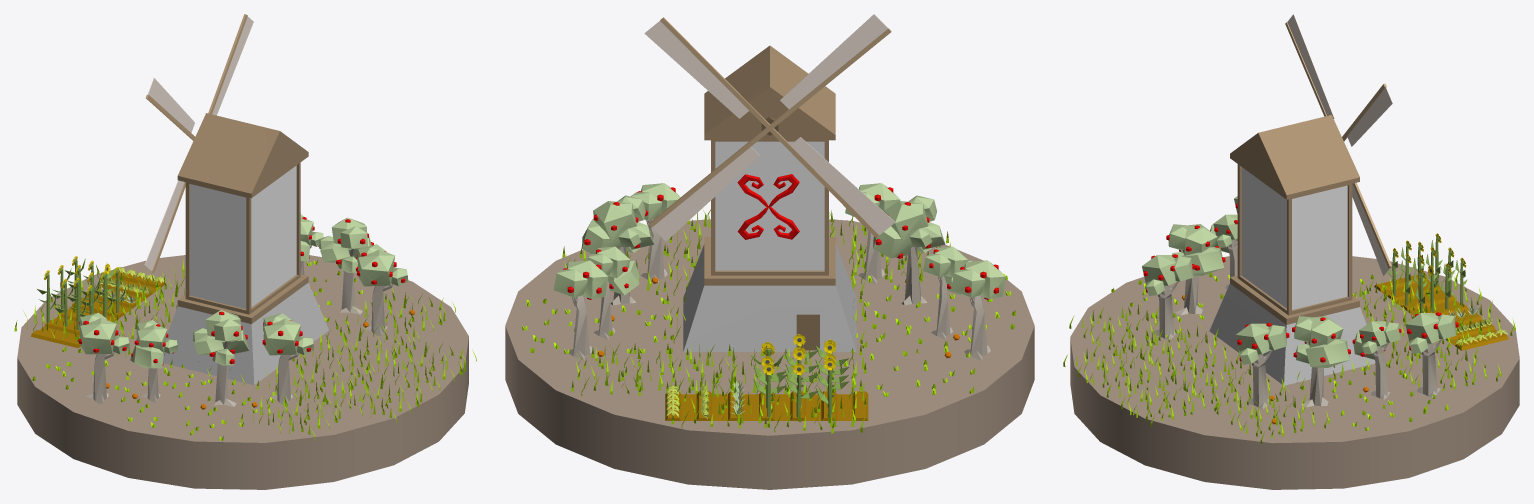
3 renders of one model, left to right at view 1: azimuth 30°, elevation 25°; view 2: azimuth 150°, elevation 25°; view 3: azimuth 270°, elevation 25°, orthographic. The views are drawn at different scales.
Visible parts, largest first — view 1: Cube__1_, Building_Windmill_Tower_01, Cube, Building_Windmill_Blades_Sails_01, Vegetation_Tree_Apple_03__2_, Prop_Farm_Plot_01, Vegetation_Tree_Apple_03__4_, Vegetation_Tree_Apple_01__8_, Vegetation_Tree_Apple_01__5_, Vegetation_Tree_Apple_01__4_, Vegetation_Tree_Apple_02__2_, Vegetation_Grass_2D_Patch_Square_01__4_ (+8 smaller); view 2: Cube__1_, Building_Windmill_Tower_01, Cube, Building_Windmill_Blades_Sails_01, Prop_Farm_Plot_01, Vegetation_Tree_Apple_03__2_, Vegetation_Tree_Apple_03__4_, Vegetation_Tree_Apple_01__4_, Vegetation_Tree_Apple_01__9_, Vegetation_Tree_Apple_02__4_, Vegetation_Tree_Apple_02__2_, Vegetation_Tree_Apple_01__8_ (+8 smaller); view 3: Cube__1_, Building_Windmill_Tower_01, Cube, Building_Windmill_Blades_Sails_01, Vegetation_Tree_Apple_03__4_, Prop_Farm_Plot_01, Vegetation_Tree_Apple_03__2_, Vegetation_Tree_Apple_01__8_, Vegetation_Tree_Apple_01__5_, Vegetation_Tree_Apple_01__9_, Vegetation_Tree_Apple_02__4_, Vegetation_Tree_Apple_02__2_ (+10 smaller).
Part boxes in pixels (x1,y1,x2,y2): Cube__1_: (17,255,468,450); Building_Windmill_Tower_01: (163,113,328,384); Cube: (17,345,468,489); Building_Windmill_Blades_Sails_01: (144,14,253,272); Vegetation_Tree_Apple_03__2_: (192,310,248,406); Prop_Farm_Plot_01: (30,271,164,348); Vegetation_Tree_Apple_03__4_: (319,217,373,314); Vegetation_Tree_Apple_01__8_: (357,244,408,335); Vegetation_Tree_Apple_01__5_: (262,313,313,404); Vegetation_Tree_Apple_01__4_: (78,312,129,403); Vegetation_Tree_Apple_02__2_: (130,320,177,402); Vegetation_Grass_2D_Patch_Square_01__4_: (365,333,476,390); Cube__1_: (505,219,1034,444); Building_Windmill_Tower_01: (683,45,856,351); Cube: (505,335,1034,489); Building_Windmill_Blades_Sails_01: (644,14,895,241); Prop_Farm_Plot_01: (665,391,868,420); Vegetation_Tree_Apple_03__2_: (873,195,945,305); Vegetation_Tree_Apple_03__4_: (582,195,653,305); Vegetation_Tree_Apple_01__4_: (951,260,1005,360); Vegetation_Tree_Apple_01__9_: (553,260,608,360); Vegetation_Tree_Apple_02__4_: (587,246,639,339); Vegetation_Tree_Apple_02__2_: (923,246,972,339); Vegetation_Tree_Apple_01__8_: (630,183,680,284); Cube__1_: (1070,256,1519,450); Building_Windmill_Tower_01: (1209,115,1375,385); Cube: (1070,347,1519,489); Building_Windmill_Blades_Sails_01: (1285,14,1392,275); Vegetation_Tree_Apple_03__4_: (1292,316,1350,407); Prop_Farm_Plot_01: (1374,274,1508,350); Vegetation_Tree_Apple_03__2_: (1166,224,1225,315); Vegetation_Tree_Apple_01__8_: (1235,323,1289,409); Vegetation_Tree_Apple_01__5_: (1142,254,1195,340); Vegetation_Tree_Apple_01__9_: (1405,312,1458,398); Vegetation_Tree_Apple_02__4_: (1352,321,1401,399); Vegetation_Tree_Apple_02__2_: (1210,214,1237,288).
Size of the model in its own units: 1.05 by 0.8637 by 1.06.
